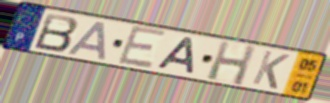A: (65, 20, 108, 62), (155, 36, 198, 76)
B: (32, 11, 81, 53)
E: (115, 24, 169, 71)
H: (205, 40, 258, 88)
K: (250, 49, 292, 91)
